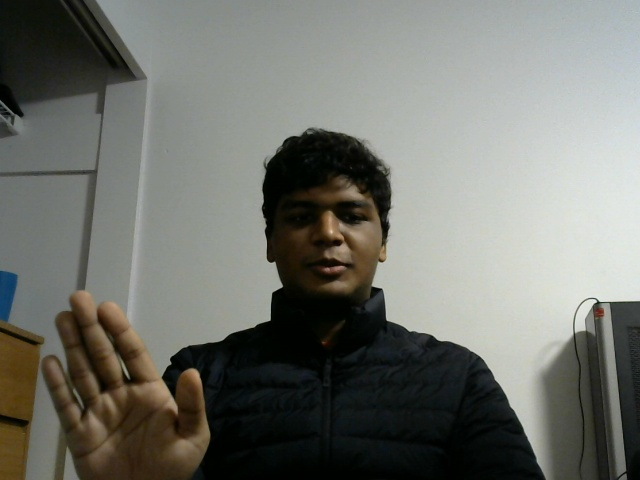Hi: (29, 284, 223, 480)
